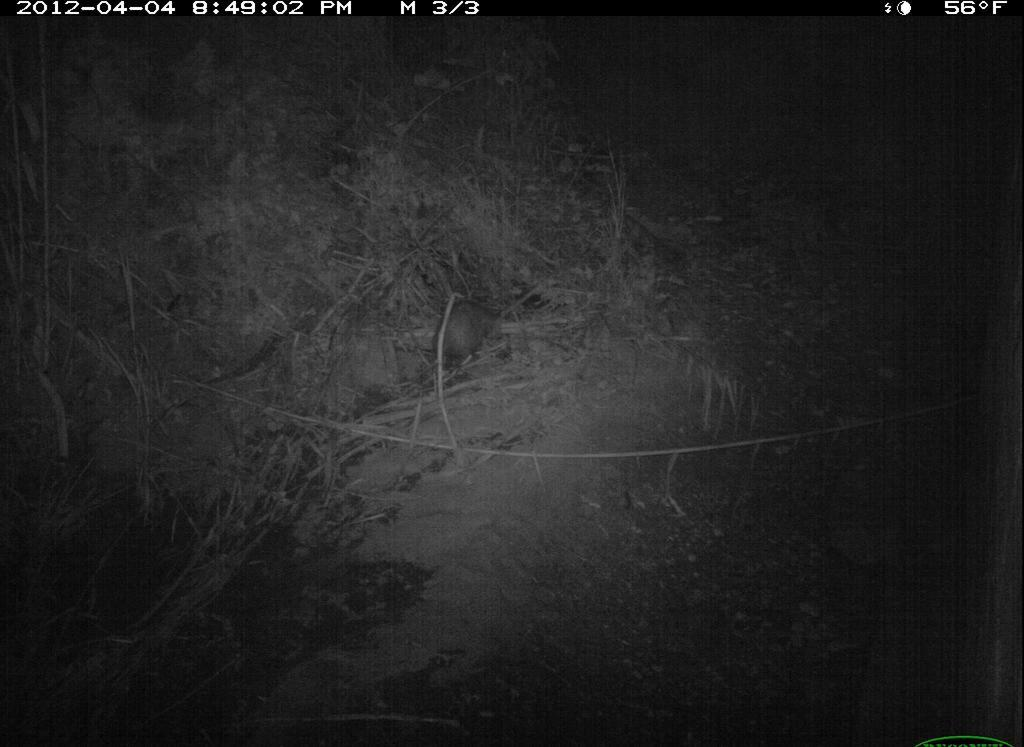opossum: (422, 277, 509, 373)
